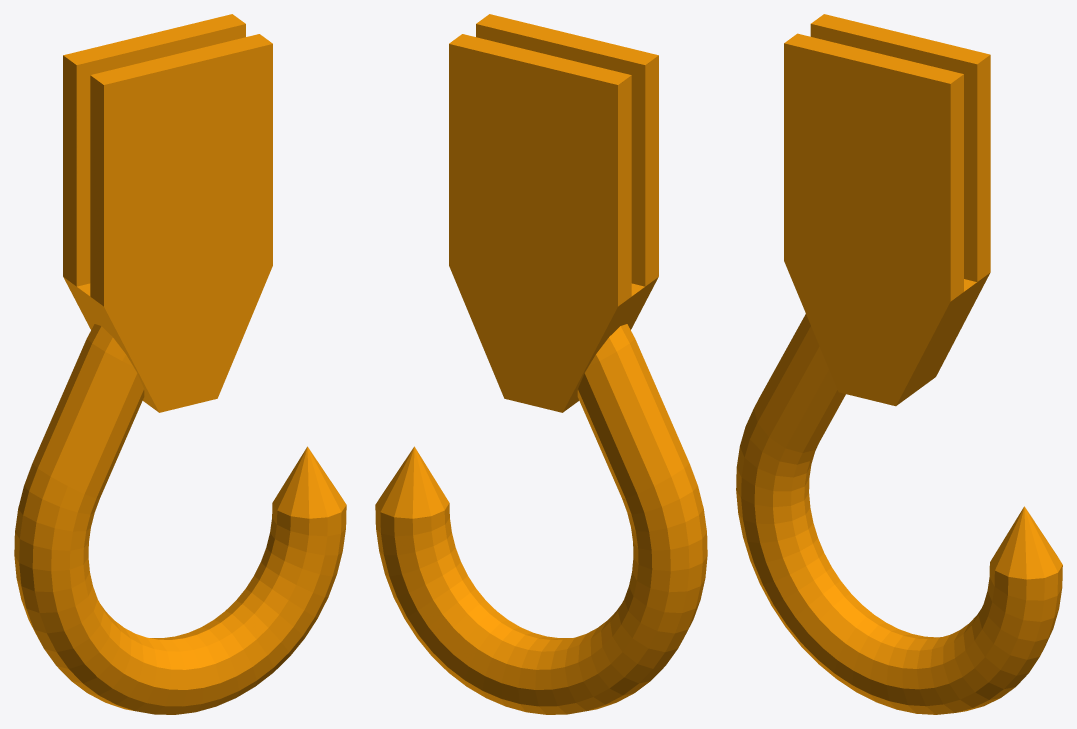
File: CraneHook.fbx
3 views of the same model, side by side, from view 1: azimuth 30°, elevation 25°; view 2: azimuth 150°, elevation 25°; view 3: azimuth 330°, elevation 25° (orthographic).
Visible parts, largest first — view 1: Hook; view 2: Hook; view 3: Hook.
Boxes of the visible parts, box(x1,y1,x2,y2) form: Hook: box(14, 14, 346, 714); Hook: box(375, 14, 707, 714); Hook: box(736, 14, 1062, 714).
Bounding box in the file's own units: 229 × 451 × 50.
1 material, 1 textured.
